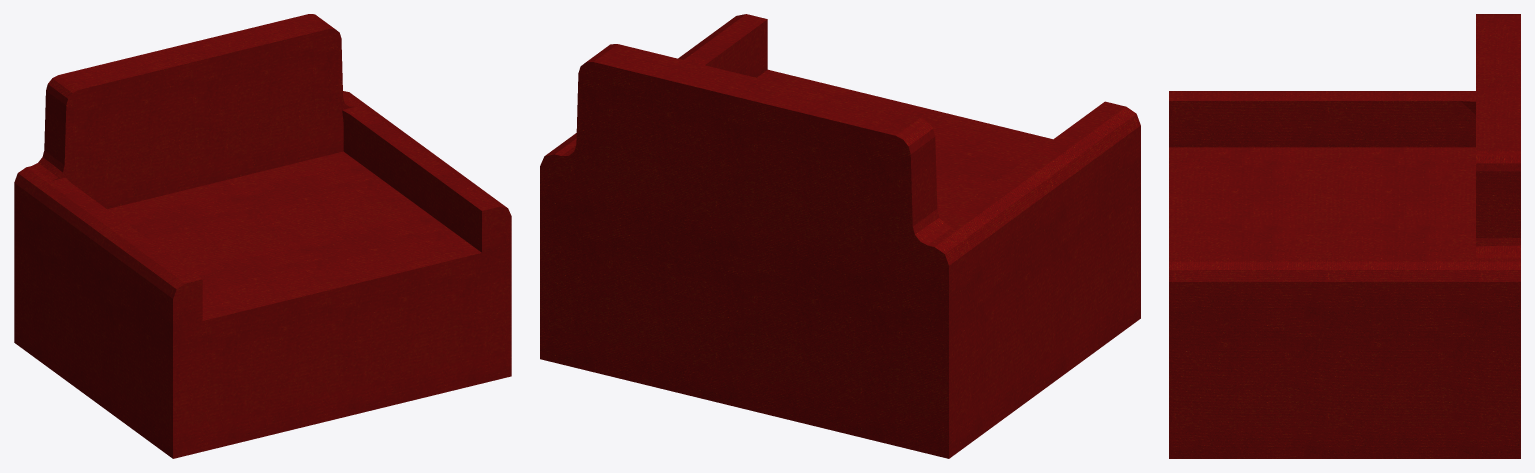
Rendered from armchair.fbx.
3 views of the same model, side by side, from view 1: azimuth 30°, elevation 25°; view 2: azimuth 150°, elevation 25°; view 3: azimuth 270°, elevation 25° (orthographic). The views are drawn at different scales.
Visible parts, largest first — view 1: armchair; view 2: armchair; view 3: armchair.
Part boxes in pixels (left/top/right/bottom): armchair: left=14, top=14, right=511, bottom=458; armchair: left=540, top=14, right=1140, bottom=458; armchair: left=1169, top=14, right=1520, bottom=458.
Bounding box in the file's own units: 94.09 × 68.2 × 76.46.
